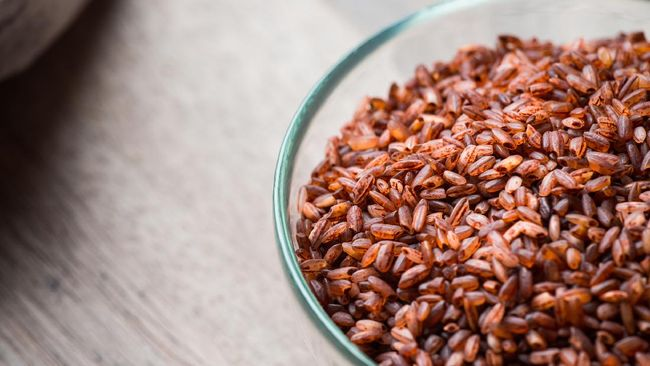Nasi Merah: (286, 45, 632, 346)
